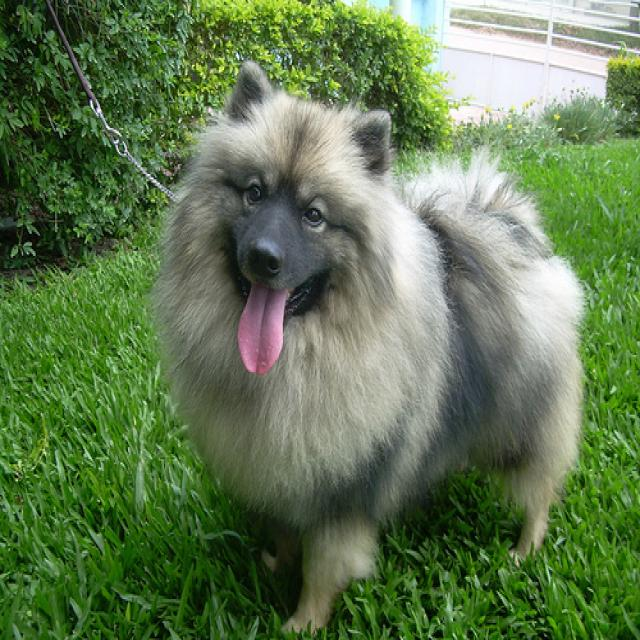dog-keeshond: (147, 51, 593, 637)
